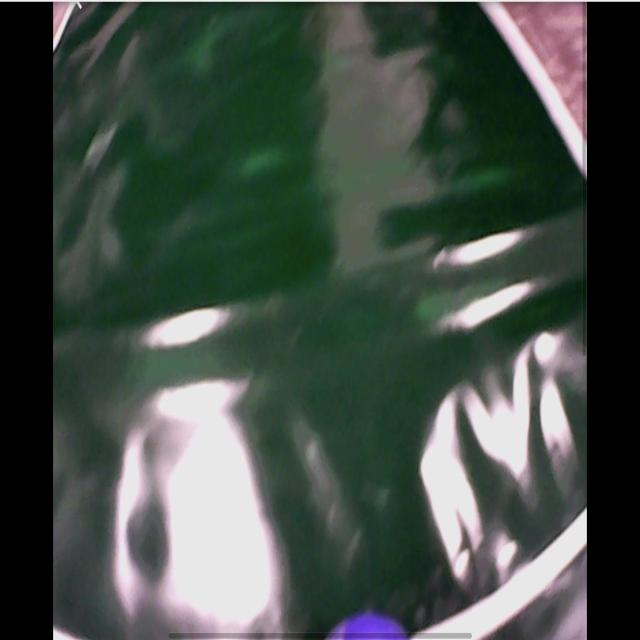ball: (327, 616, 409, 639)
